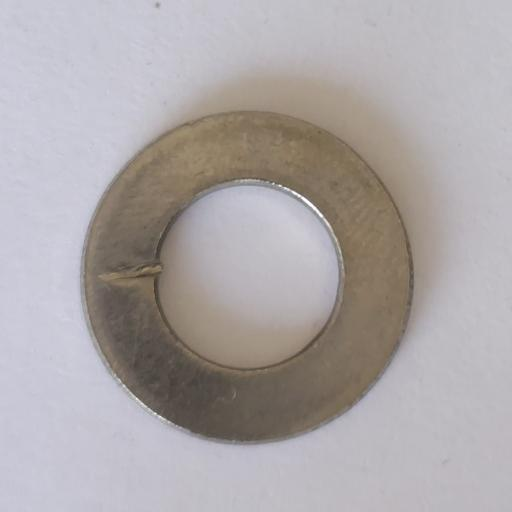scratch: (99, 261, 163, 283)
